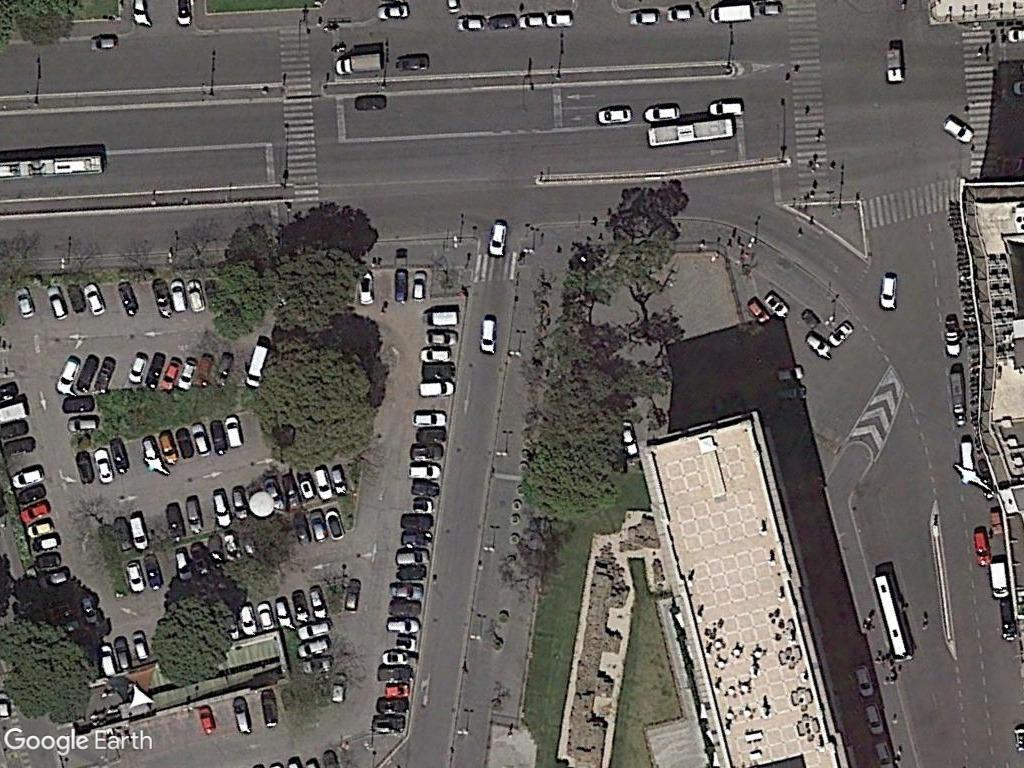bus: (870, 569, 920, 663), (643, 117, 736, 152)
car: (53, 353, 82, 398), (180, 273, 207, 320), (704, 93, 750, 120), (105, 433, 134, 474), (261, 474, 289, 515), (969, 525, 994, 570), (149, 276, 174, 321), (78, 279, 106, 319), (941, 114, 978, 144), (93, 443, 117, 489), (163, 498, 188, 542), (390, 51, 435, 75), (396, 459, 445, 481), (293, 619, 336, 644), (14, 498, 58, 522), (741, 294, 772, 328), (259, 688, 284, 730), (827, 314, 855, 351), (639, 101, 684, 124), (213, 346, 236, 391), (408, 405, 451, 429), (122, 558, 149, 596), (189, 420, 214, 461), (157, 428, 182, 469), (174, 354, 200, 393), (234, 602, 260, 641), (877, 269, 900, 313), (231, 694, 254, 738), (44, 283, 68, 325), (209, 488, 233, 530), (12, 283, 37, 323), (340, 576, 365, 616), (761, 289, 794, 319), (417, 329, 462, 351), (183, 492, 206, 535), (589, 105, 638, 125), (408, 440, 447, 465), (72, 449, 97, 488), (389, 266, 412, 308), (293, 640, 335, 663), (543, 6, 580, 32), (802, 331, 834, 361), (95, 641, 119, 681), (279, 467, 301, 510), (386, 581, 427, 604), (34, 570, 75, 593), (111, 634, 134, 675), (10, 465, 49, 489), (126, 349, 151, 386), (195, 702, 220, 739), (167, 275, 189, 317), (378, 647, 420, 669), (222, 411, 245, 451), (311, 463, 334, 503), (271, 592, 293, 633), (329, 667, 351, 708), (171, 549, 196, 585), (290, 589, 313, 628), (307, 584, 331, 621), (373, 1, 415, 22), (662, 2, 697, 27), (394, 546, 432, 569), (415, 378, 458, 398), (407, 267, 430, 304), (254, 599, 277, 636), (622, 8, 662, 29), (515, 9, 550, 33), (382, 616, 424, 636), (85, 32, 123, 54), (23, 517, 61, 539), (29, 531, 67, 553), (131, 628, 154, 664), (228, 483, 248, 524), (309, 507, 330, 546), (485, 10, 522, 32), (454, 13, 491, 35), (66, 414, 103, 436), (771, 363, 807, 385), (329, 464, 351, 500), (143, 551, 165, 587), (296, 469, 318, 504), (161, 356, 180, 394), (417, 346, 461, 362)
other: (354, 267, 380, 312), (940, 315, 965, 361), (881, 45, 907, 89), (115, 279, 143, 318), (94, 354, 118, 394)
truck: (944, 366, 972, 432)
van: (244, 341, 271, 391), (332, 54, 388, 77), (707, 1, 760, 24), (125, 511, 152, 552), (485, 217, 508, 263), (986, 557, 1010, 601), (476, 315, 499, 358), (419, 308, 463, 329)
